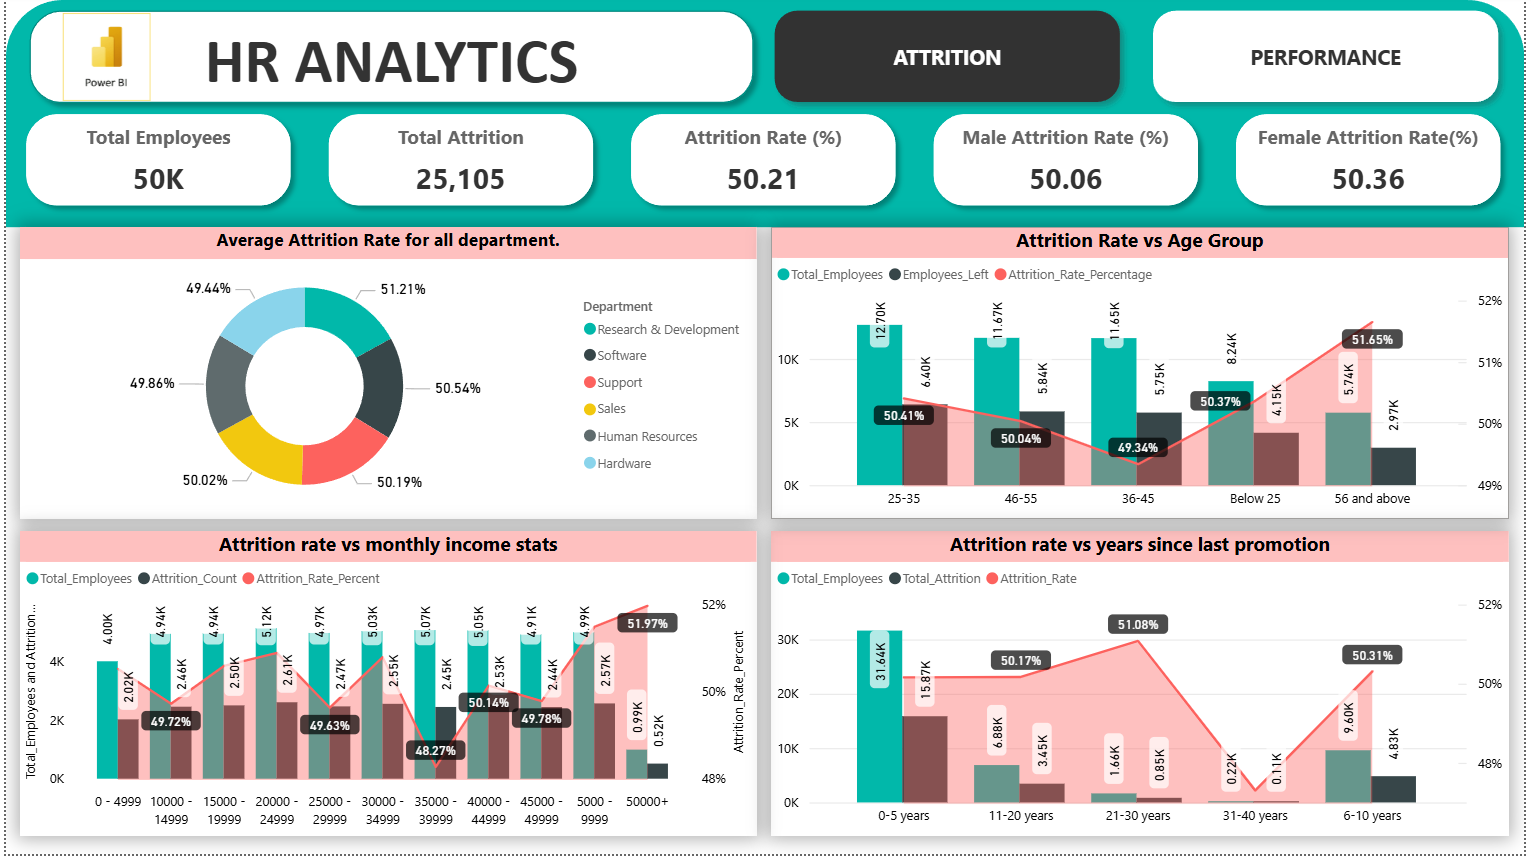

Layout of this report page (visuals, bound fields, positions):
{"tool":"tableau","page":{"name":"HR ANALYTICS","canvas":[1000,1000],"units":"permille","ordinal":0},"visuals":[{"type":"image","param":"Image/hr-manager-black-glyph-icon-coordinates-recruitment-process-human-resource","box":[4.8,10,56.1,106.1]},{"type":"title","box":[61,10,838.3,106.1]},{"type":"image","param":"Image/Image20250526154934.png","box":[899.2,10,96,106.1]},{"type":"worksheet","title":"KPI (2)","mark":"Automatic","box":[4.8,116.1,141.5,149.8]},{"type":"worksheet","title":"KPI","mark":"Automatic","box":[146.3,116.1,141.5,149.8]},{"type":"worksheet","title":"KPI (4)","mark":"Automatic","box":[287.8,116.1,141.5,149.8]},{"type":"worksheet","title":"KPI (6)","mark":"Automatic","box":[429.2,116.1,141.5,149.8]},{"type":"worksheet","title":"KPI (7)","mark":"Automatic","box":[570.7,116.1,141.5,149.8]},{"type":"worksheet","title":"KPI (3)","mark":"Automatic","box":[712.2,116.1,141.5,149.8]},{"type":"worksheet","title":"KPI (5)","mark":"Automatic","box":[853.6,116.1,141.5,149.8]},{"type":"filter","title":"Average Attrition Rate for all department.","param":"[federated.1351uje00w4ev41bkiqwd1rhjftp].[none:Department:nk]","box":[4.8,265.9,92.3,350.8]},{"type":"worksheet","title":"Average Attrition Rate for all department.","mark":"Pie","box":[97.2,265.9,307.2,350.8]},{"type":"worksheet","title":"Attrition rate vs monthly income stats","mark":"Automatic","rows":["Calculation_776307987345670146"],"cols":["Monthly Income (bin)"],"box":[404.3,265.9,321.1,350.8]},{"type":"worksheet","title":"Average working years for each department","mark":"Automatic","rows":["Department"],"cols":["TotalWorkingYears"],"box":[725.4,265.9,269.8,350.8]},{"type":"filter","title":"Job role vs work-life balance","param":"[federated.1351uje00w4ev41bkiqwd1rhjftp].[none:JobRole:nk]","box":[4.8,616.7,92.3,360.8]},{"type":"worksheet","title":"Attrition rate vs years since last promotion","mark":"Area","rows":["Calculation_776307987346313219"],"cols":["Years Since Last Promotion (bin)"],"box":[97.2,616.7,458.7,373.3]},{"type":"worksheet","title":"Attrition Rate vs Age Group","mark":"Circle","box":[555.8,616.7,230.6,373.3]},{"type":"worksheet","title":"Job role vs work-life balance","mark":"Square","rows":["JobRole"],"box":[786.4,616.7,208.7,373.3]}]}

Visuals, with their boxes on the dashboard's canvas, which has no fixed pixel size, in thousandths of its width and height (x1, y1, x2, y2). These are canvas units, not pixel positions in the 1531x858 screenshot, which may show the page scaled, cropped or inside an application window:
image: locate(5, 10, 61, 116)
title: locate(61, 10, 899, 116)
image: locate(899, 10, 995, 116)
"KPI (2)" worksheet: locate(5, 116, 146, 266)
"KPI" worksheet: locate(146, 116, 288, 266)
"KPI (4)" worksheet: locate(288, 116, 429, 266)
"KPI (6)" worksheet: locate(429, 116, 571, 266)
"KPI (7)" worksheet: locate(571, 116, 712, 266)
"KPI (3)" worksheet: locate(712, 116, 854, 266)
"KPI (5)" worksheet: locate(854, 116, 995, 266)
"Average Attrition Rate for all department." filter: locate(5, 266, 97, 617)
"Average Attrition Rate for all department." worksheet (Pie marks): locate(97, 266, 404, 617)
"Attrition rate vs monthly income stats" worksheet: locate(404, 266, 725, 617)
"Average working years for each department" worksheet: locate(725, 266, 995, 617)
"Job role vs work-life balance" filter: locate(5, 617, 97, 978)
"Attrition rate vs years since last promotion" worksheet (Area marks): locate(97, 617, 556, 990)
"Attrition Rate vs Age Group" worksheet (Circle marks): locate(556, 617, 786, 990)
"Job role vs work-life balance" worksheet (Square marks): locate(786, 617, 995, 990)
